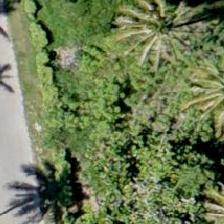Kelapa_Sawit: (106, 0, 196, 76)
